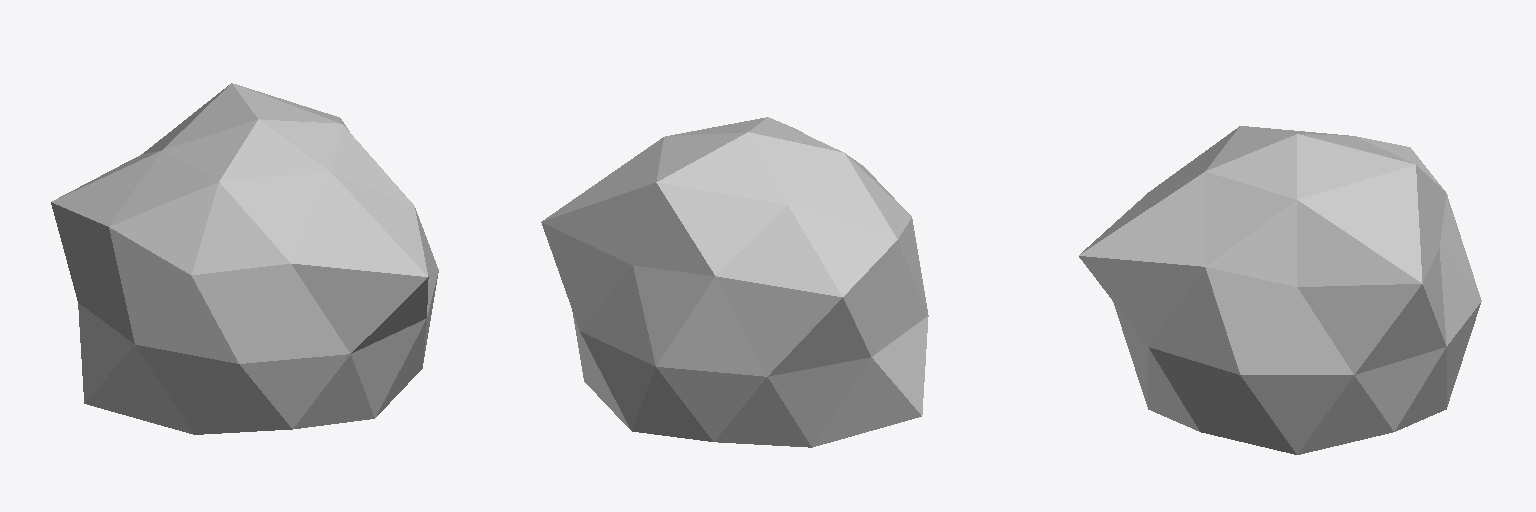
The model's file is rocc.obj.stl.obj.
3 renders of one model, left to right at view 1: azimuth 30°, elevation 25°; view 2: azimuth 150°, elevation 25°; view 3: azimuth 270°, elevation 25°, orthographic.
Visible parts, largest first — view 1: <STL_BINARY>; view 2: <STL_BINARY>; view 3: <STL_BINARY>.
Part boxes in pixels (x1,y1,x2,y2): <STL_BINARY>: (51, 83, 438, 434); <STL_BINARY>: (541, 117, 928, 447); <STL_BINARY>: (1079, 126, 1481, 454).
Size of the model in its own units: 2.04 by 1.53 by 2.19.